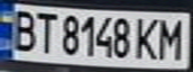1: (78, 12, 96, 57)
4: (93, 14, 115, 58)
8: (57, 11, 81, 56), (112, 15, 136, 60)
B: (6, 6, 39, 52)
K: (133, 15, 163, 61)
M: (154, 15, 190, 61)
T: (30, 9, 57, 54)
